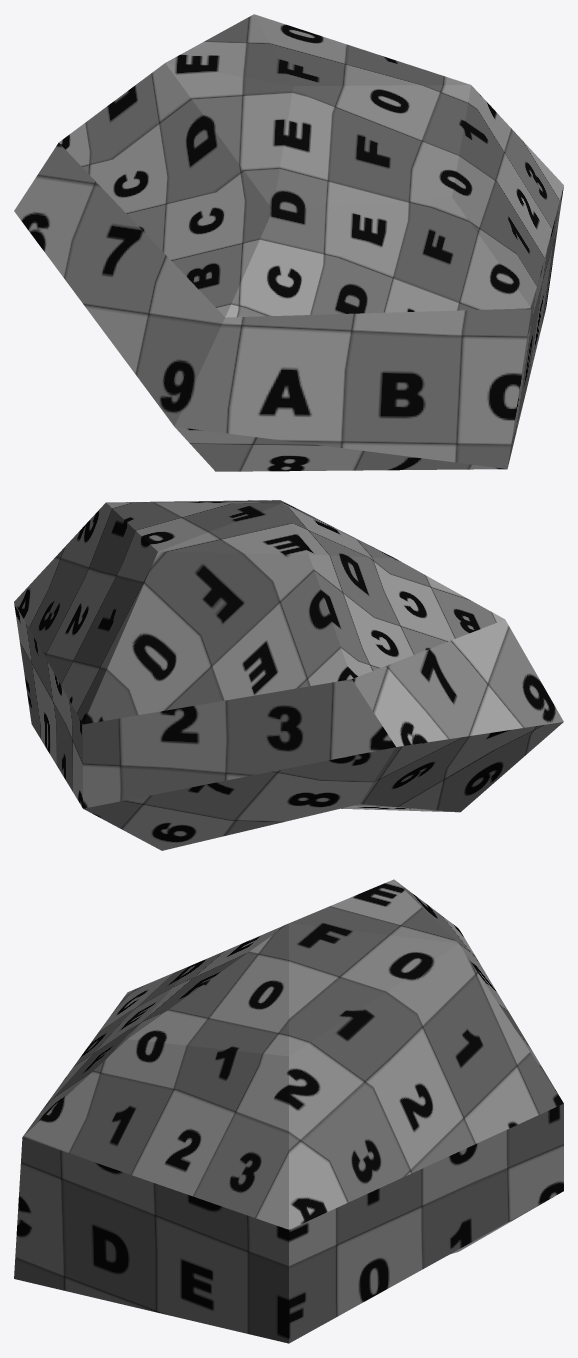
Rendered from Rock5.fbx.
3 views of the same model, one above another, from view 1: azimuth 30°, elevation 25°; view 2: azimuth 150°, elevation 25°; view 3: azimuth 270°, elevation 25° (orthographic). The views are drawn at different scales.
Visible parts, largest first — view 1: Rock5; view 2: Rock5; view 3: Rock5.
Boxes of the visible parts, <box> form: Rock5: <box>14,14,563,471</box>; Rock5: <box>14,500,563,850</box>; Rock5: <box>14,879,563,1343</box>.
Bounding box in the file's own units: 1.75 × 1.16 × 1.72.
Materials: 1 (1 with a texture image).
